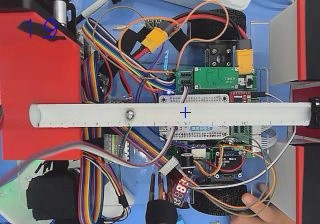ironball: (124, 108, 134, 119)
